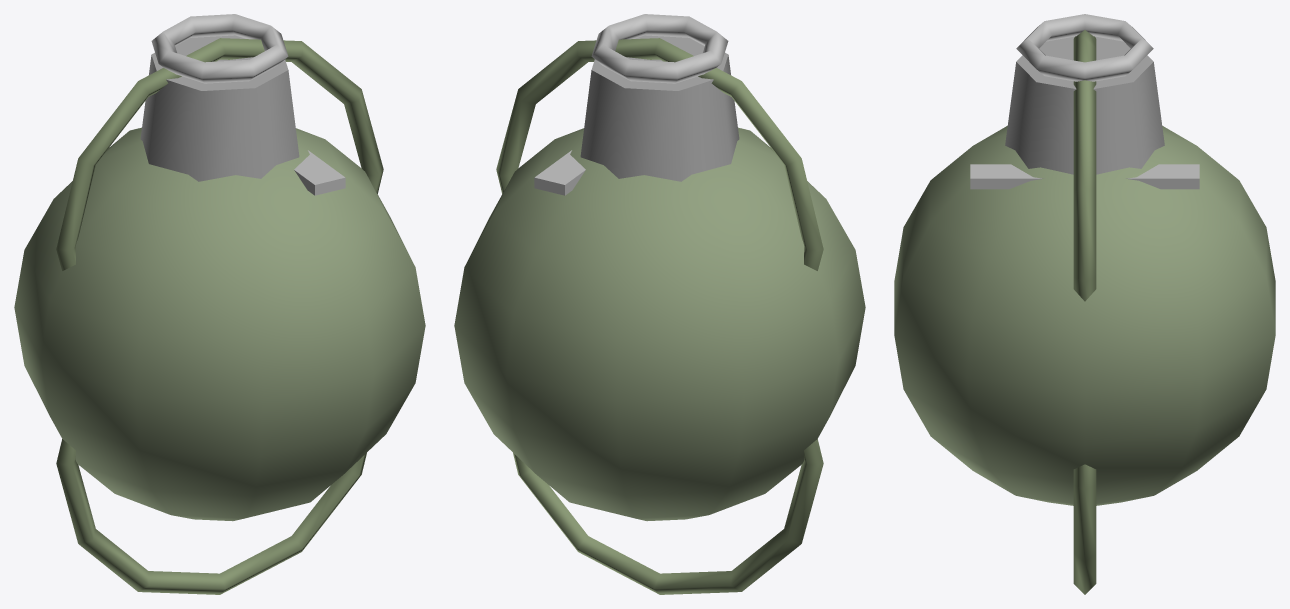
File: weapon_grenade.glb
3 renders of one model, left to right at view 1: azimuth 30°, elevation 25°; view 2: azimuth 150°, elevation 25°; view 3: azimuth 270°, elevation 25°, orthographic. The views are drawn at different scales.
Visible parts, largest first — view 1: body, cap, ridge_2, ridge_0, ring, spoon; view 2: body, cap, ridge_2, ridge_0, ring, spoon; view 3: body, cap, ridge_2, ring, ridge_0, spoon.
Part boxes in pixels (x1=…): body: x1=14, y1=127, x2=425, y2=521; cap: x1=140, y1=35, x2=299, y2=181; ridge_2: x1=56, y1=38, x2=383, y2=270; ridge_0: x1=56, y1=439, x2=366, y2=594; ring: x1=151, y1=14, x2=288, y2=83; spoon: x1=294, y1=150, x2=345, y2=195; body: x1=454, y1=127, x2=865, y2=521; cap: x1=580, y1=35, x2=739, y2=181; ridge_2: x1=496, y1=38, x2=823, y2=270; ridge_0: x1=513, y1=439, x2=823, y2=594; ring: x1=591, y1=14, x2=728, y2=83; spoon: x1=534, y1=150, x2=585, y2=195; body: x1=894, y1=126, x2=1275, y2=505; cap: x1=1005, y1=36, x2=1164, y2=174; ridge_2: x1=1073, y1=30, x2=1096, y2=301; ring: x1=1016, y1=14, x2=1153, y2=81; ridge_0: x1=1073, y1=464, x2=1096, y2=594; spoon: x1=970, y1=164, x2=1199, y2=189.
Bounding box in the file's own units: 0.21 × 0.312 × 0.1997.
